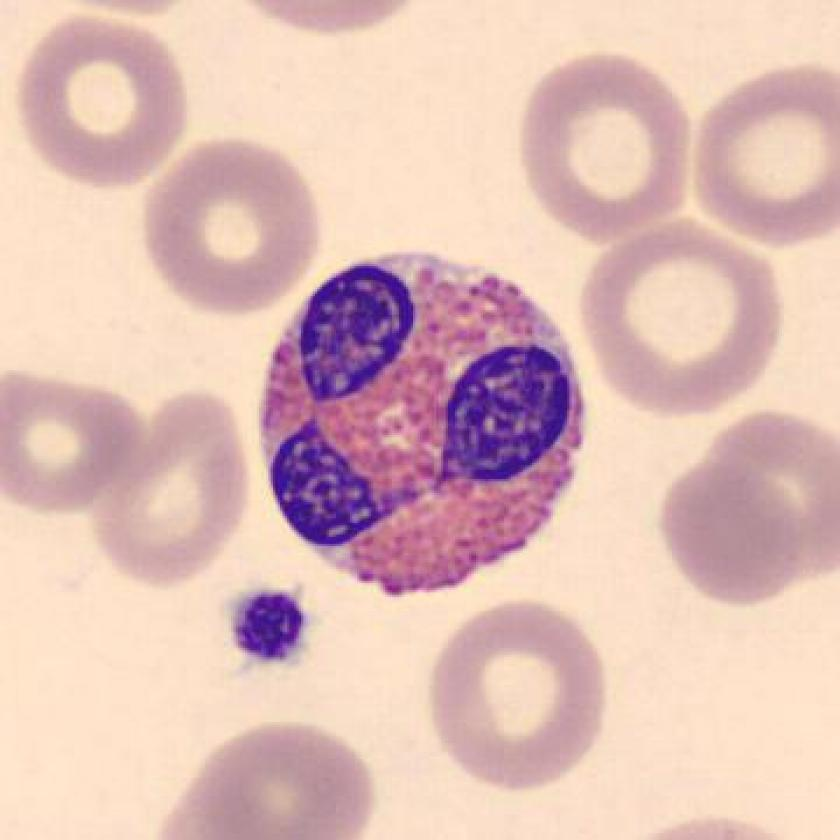eosinophil: (249, 242, 599, 612)
